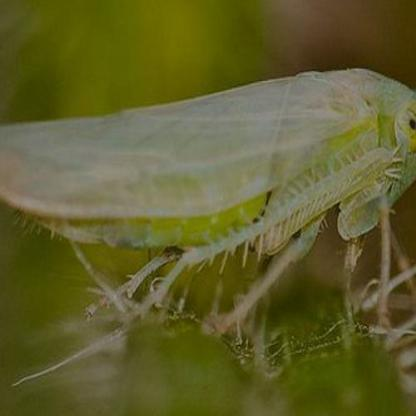green-leafhopper: (0, 68, 416, 285)
